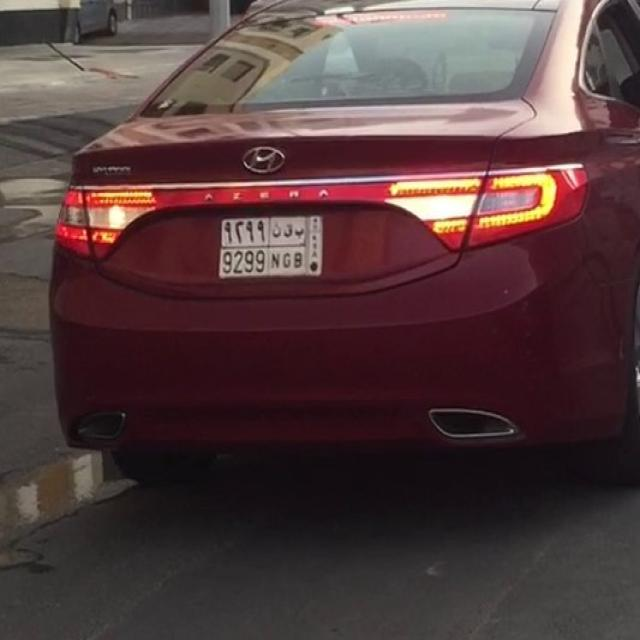Car-plate: (206, 204, 330, 289)
